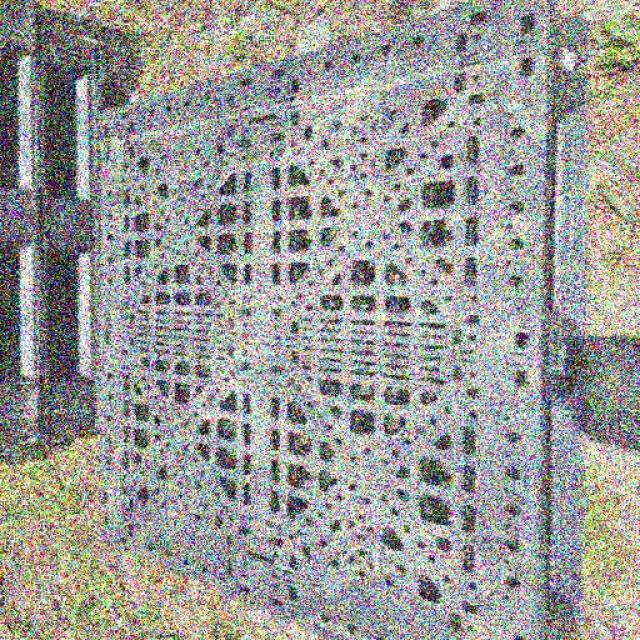non-igps: (82, 0, 640, 640), (39, 0, 102, 462), (0, 0, 39, 472), (94, 17, 156, 123)
